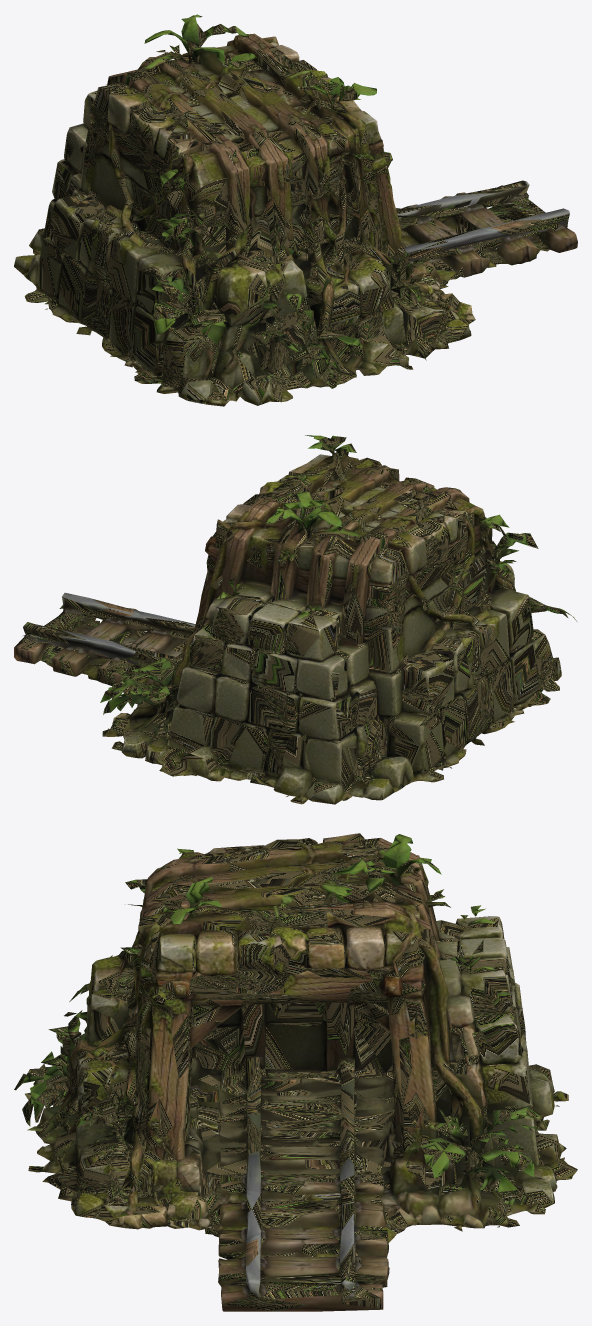
File: overgrown_mine_entrance_01.glb
3 views of the same model, one above another, from view 1: azimuth 30°, elevation 25°; view 2: azimuth 150°, elevation 25°; view 3: azimuth 270°, elevation 25° (orthographic). The views are drawn at different scales.
Parts seen in each view (by area): view 1: tripo_node_9050f649-2e1d-4380-9866-52af603e6df1; view 2: tripo_node_9050f649-2e1d-4380-9866-52af603e6df1; view 3: tripo_node_9050f649-2e1d-4380-9866-52af603e6df1.
Boxes of the visible parts, x1,y1,x2,y2 form: tripo_node_9050f649-2e1d-4380-9866-52af603e6df1: (14,14,577,406); tripo_node_9050f649-2e1d-4380-9866-52af603e6df1: (14,435,576,804); tripo_node_9050f649-2e1d-4380-9866-52af603e6df1: (14,833,577,1311).
Bounding box in the file's own units: 0.9831 × 0.4793 × 0.8626.
1 material, 1 textured.
